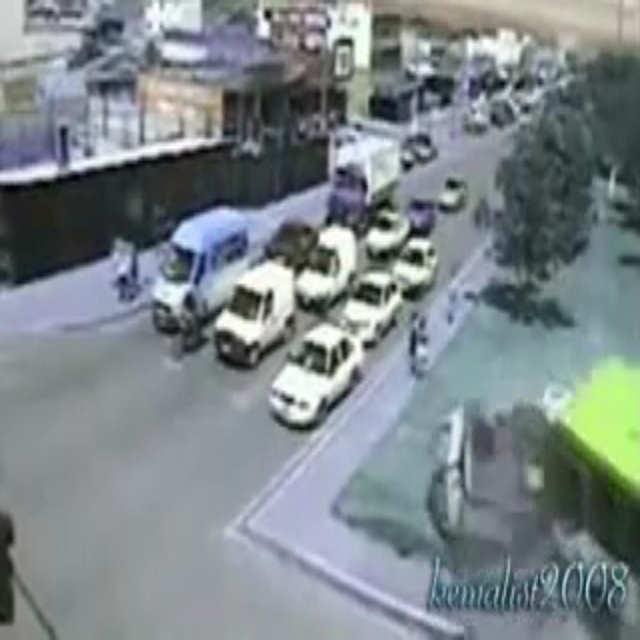acc: (431, 342, 640, 561)
